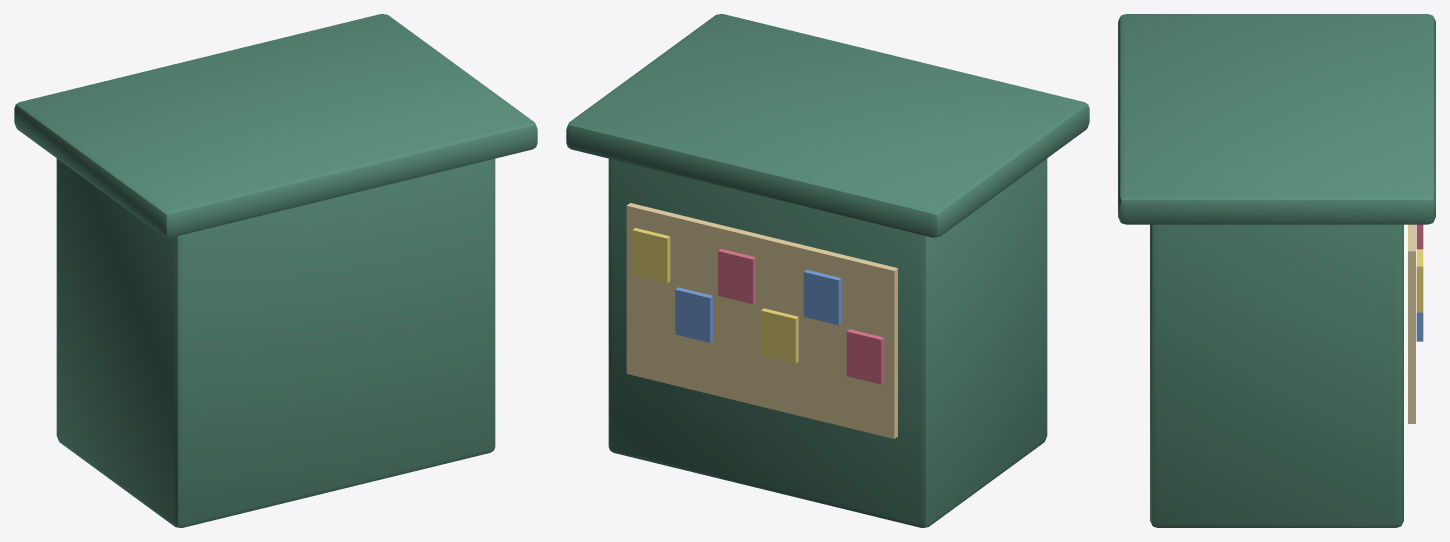
File: banca_jornal.glb
3 views of the same model, side by side, from view 1: azimuth 30°, elevation 25°; view 2: azimuth 150°, elevation 25°; view 3: azimuth 270°, elevation 25° (orthographic). The views are drawn at different scales.
Visible parts, largest first — view 1: Cube; view 2: Cube; view 3: Cube.
Part boxes in pixels (x1,y1,x2,y2): Cube: [14, 14, 537, 527]; Cube: [566, 14, 1089, 527]; Cube: [1118, 14, 1435, 527].
Bounding box in the file's own units: 2.8 × 2.4 × 2.
